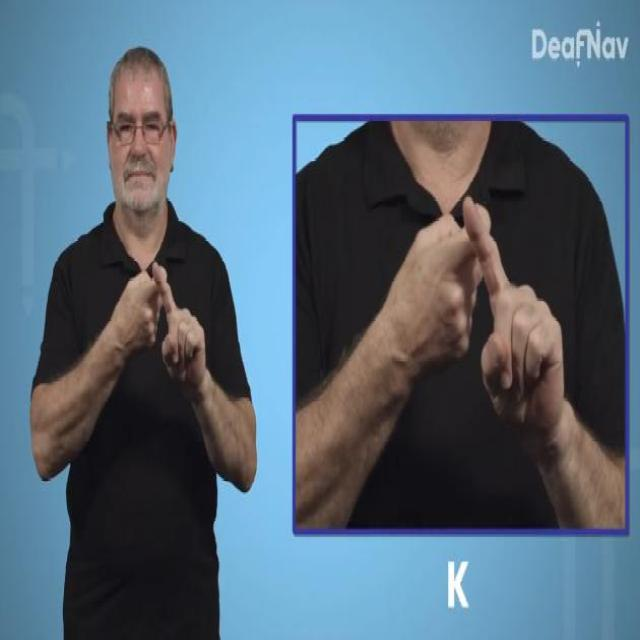K: (388, 193, 567, 445), (115, 258, 208, 399)
